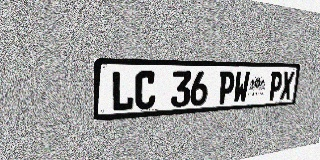3: (171, 71, 191, 108)
6: (189, 71, 209, 106)
C: (134, 71, 157, 110)
L: (111, 71, 135, 112)
P: (217, 71, 236, 104), (267, 71, 283, 101)
W: (233, 71, 250, 103)
X: (279, 71, 295, 100)
